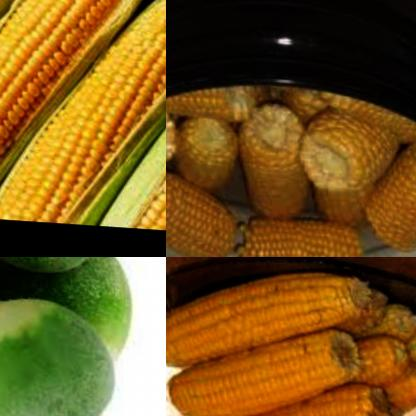corn: (0, 0, 166, 228), (0, 0, 164, 225), (166, 257, 373, 376), (166, 319, 364, 416), (96, 7, 166, 228), (0, 0, 75, 177), (225, 104, 311, 223), (294, 104, 394, 197), (179, 380, 396, 416), (360, 128, 416, 253), (166, 71, 273, 133), (166, 116, 239, 206), (228, 209, 362, 257), (166, 166, 235, 257), (339, 334, 410, 395), (345, 285, 416, 340), (395, 302, 416, 376), (166, 106, 183, 184)
redka: (0, 275, 118, 416), (0, 257, 127, 358)
